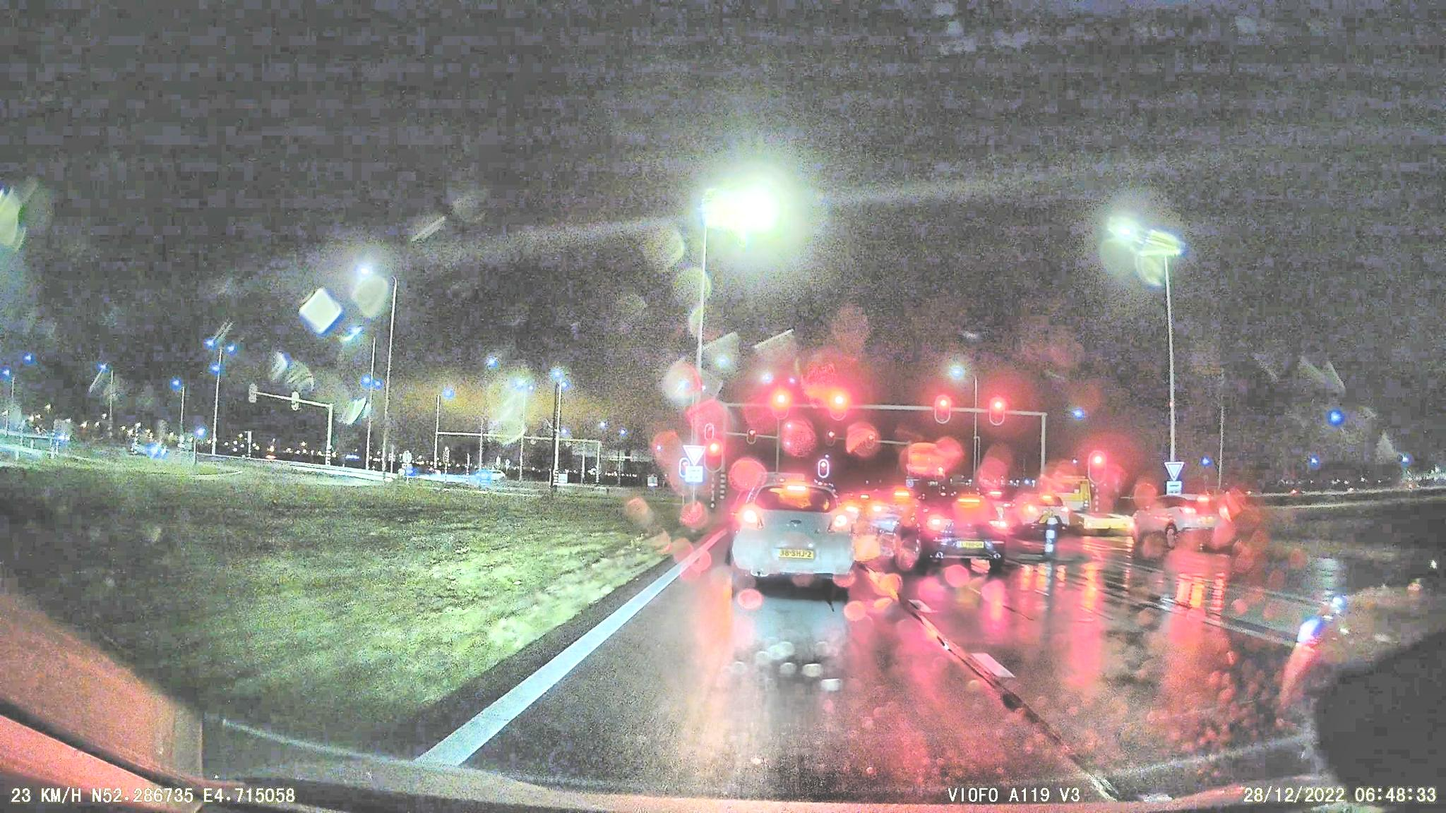Roads: (464, 556, 1290, 796)
